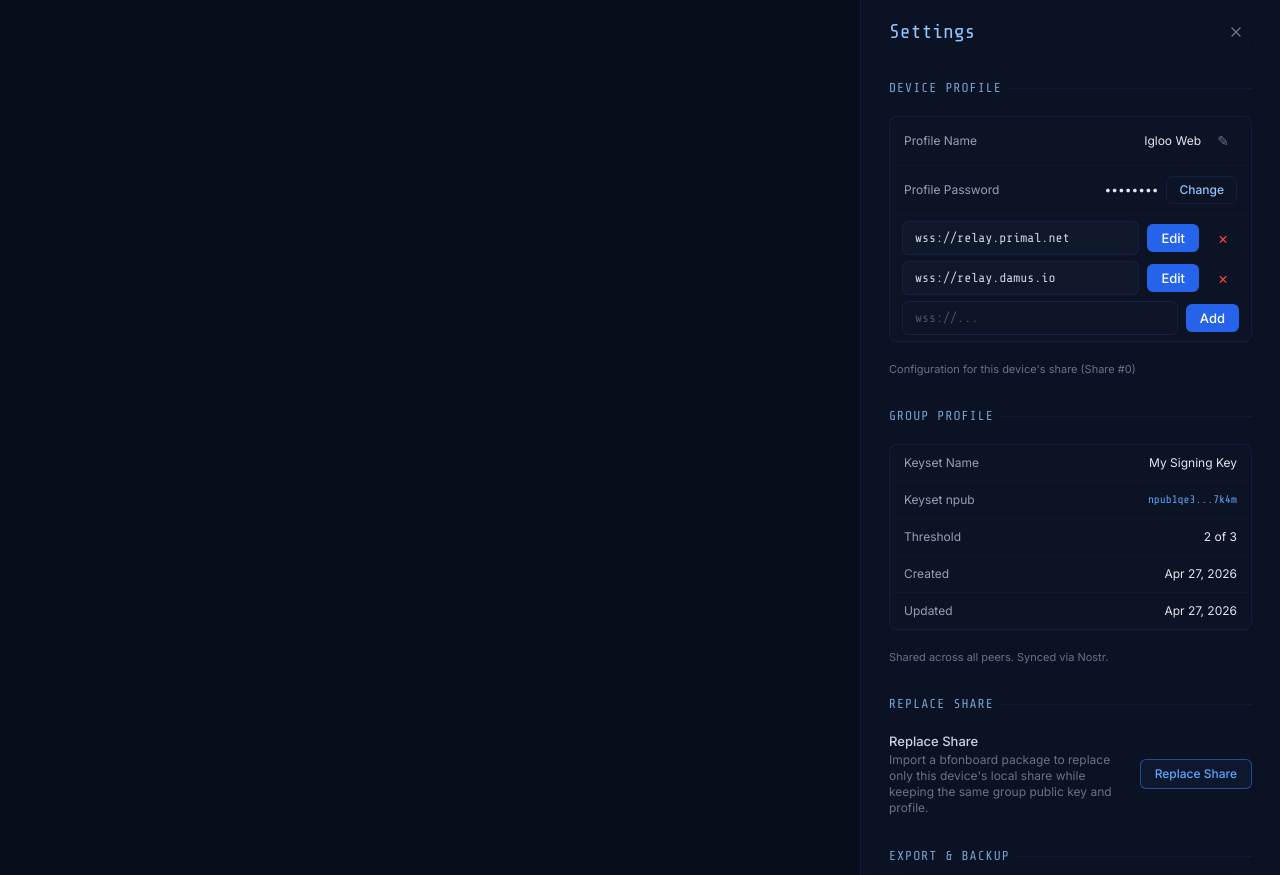
Test: SettingsSidebar — Change Password (VAL-SETTINGS-018/019/026/027/028) › disables submit and shows inline error when confirm does not match new (VAL-SETTINGS-027)
Step 1. Click the button with aria-label "change password" → (1202, 190), box x1=1166 y1=176 x2=1237 y2=204
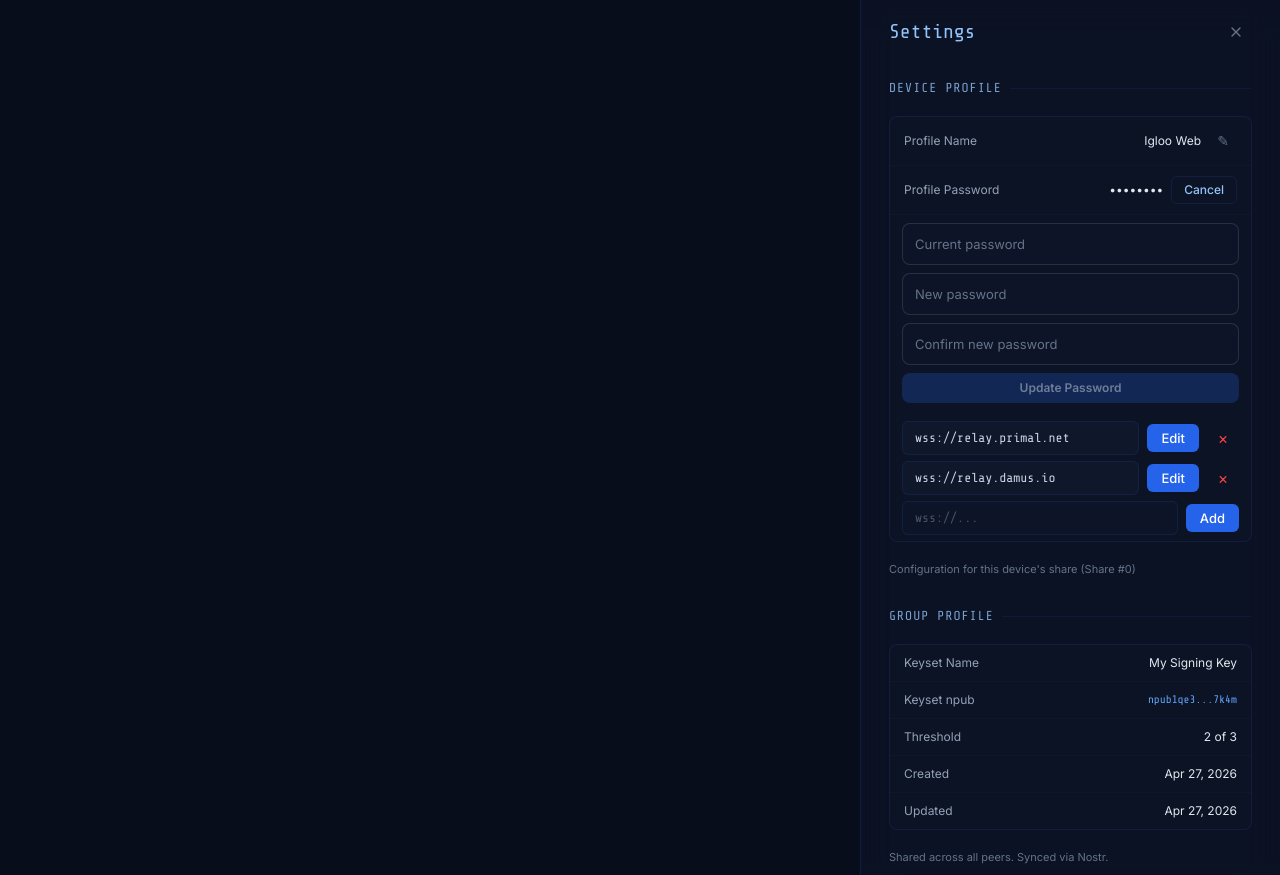
Step 2. Type "oldpass123" into the password field labelled "Current password" → (1070, 244), box x1=902 y1=223 x2=1239 y2=265
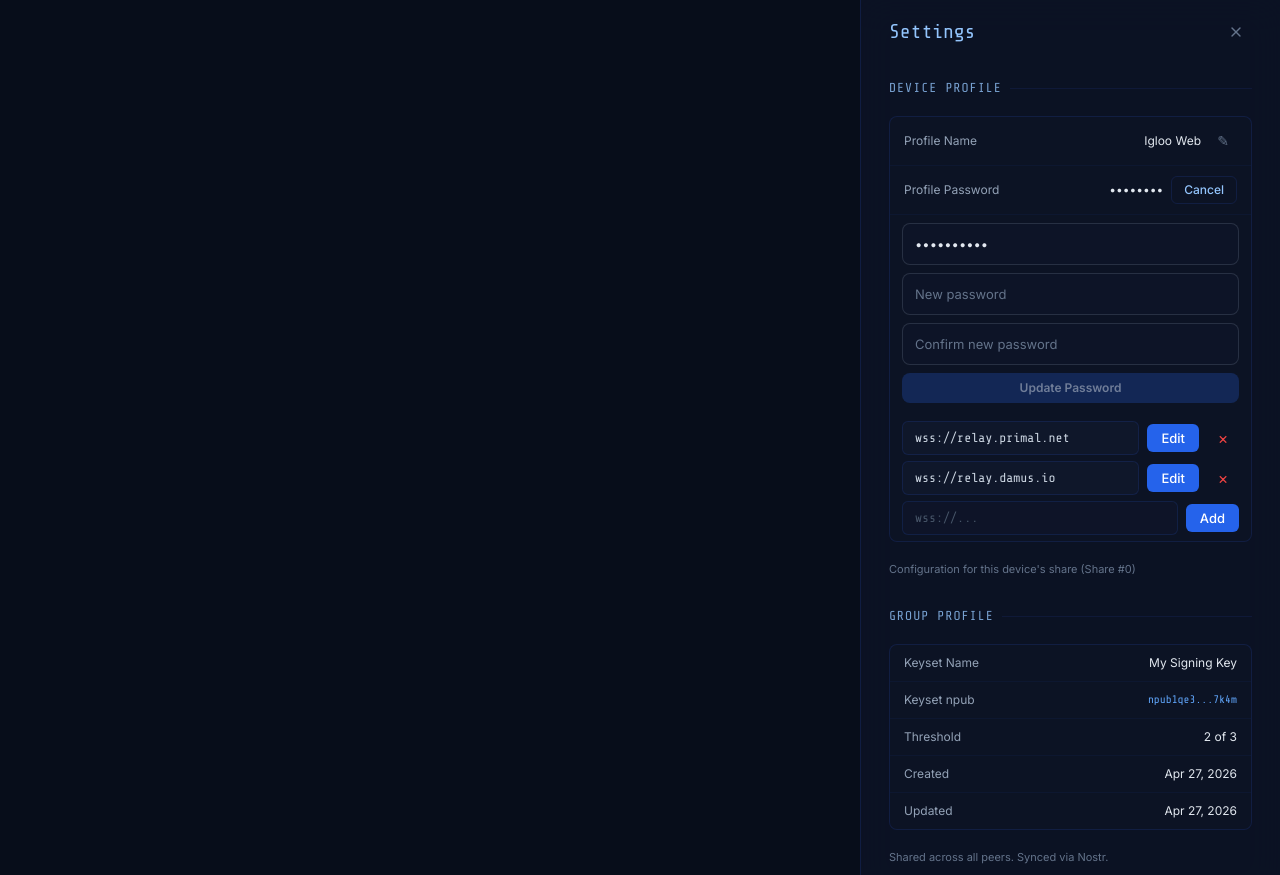
Step 3. Type "newpass123" into the password field labelled "New password" → (1070, 294), box x1=902 y1=273 x2=1239 y2=315
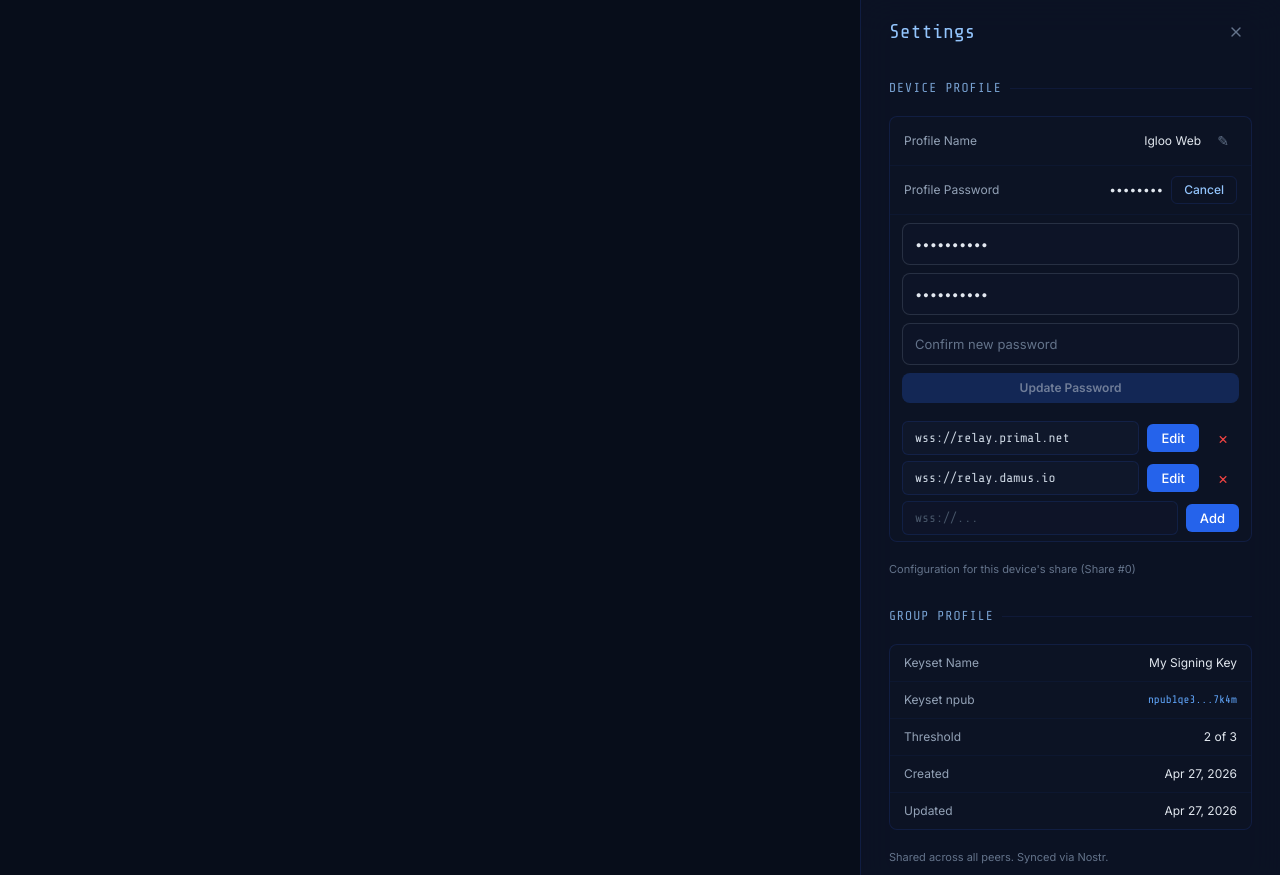
Step 4. Type "different123" into the password field labelled "Confirm new password" → (1070, 344), box x1=902 y1=323 x2=1239 y2=365
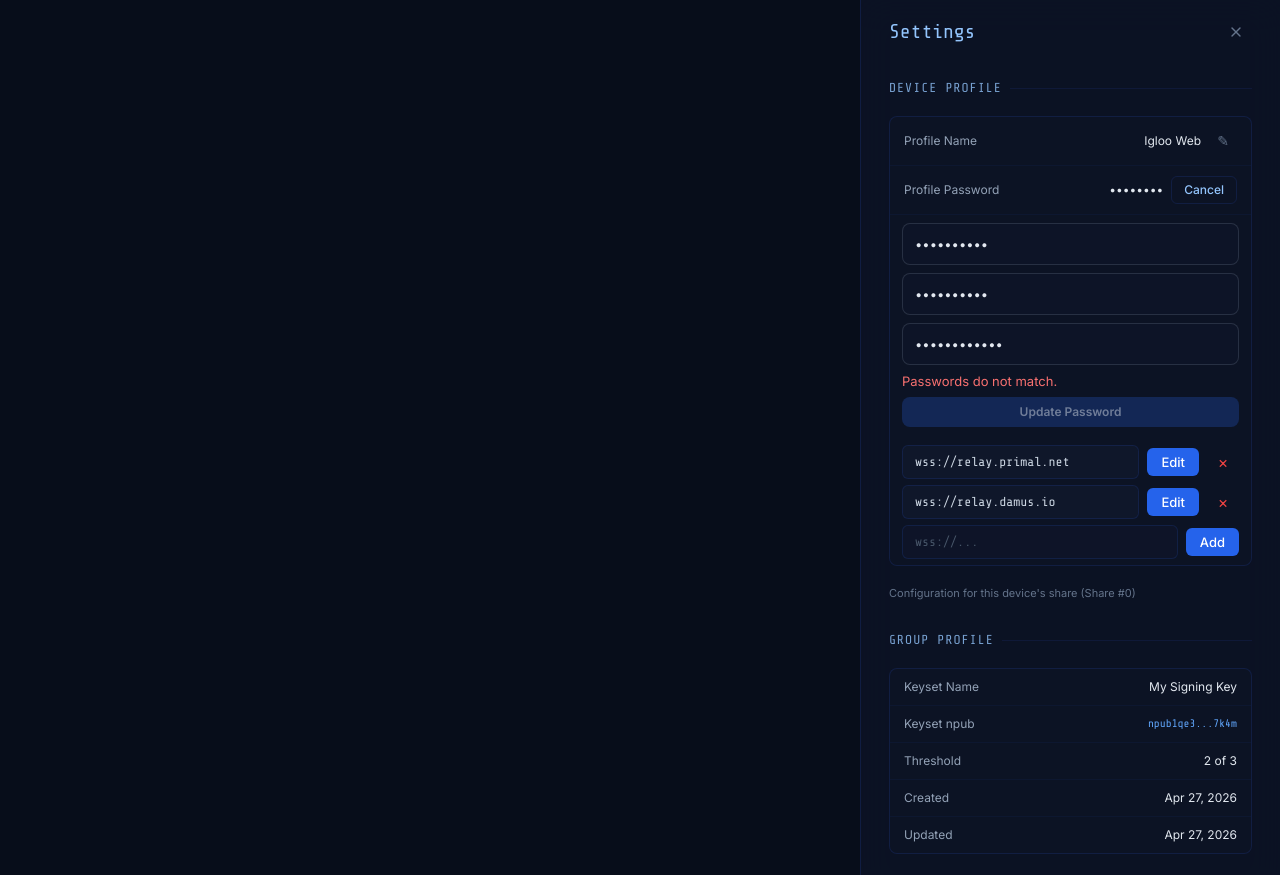
Expected: the button "Update Password" is disabled, x1=902 y1=397 x2=1239 y2=427
Expected: the text "Passwords do not match." is shown, x1=902 y1=373 x2=1057 y2=389
